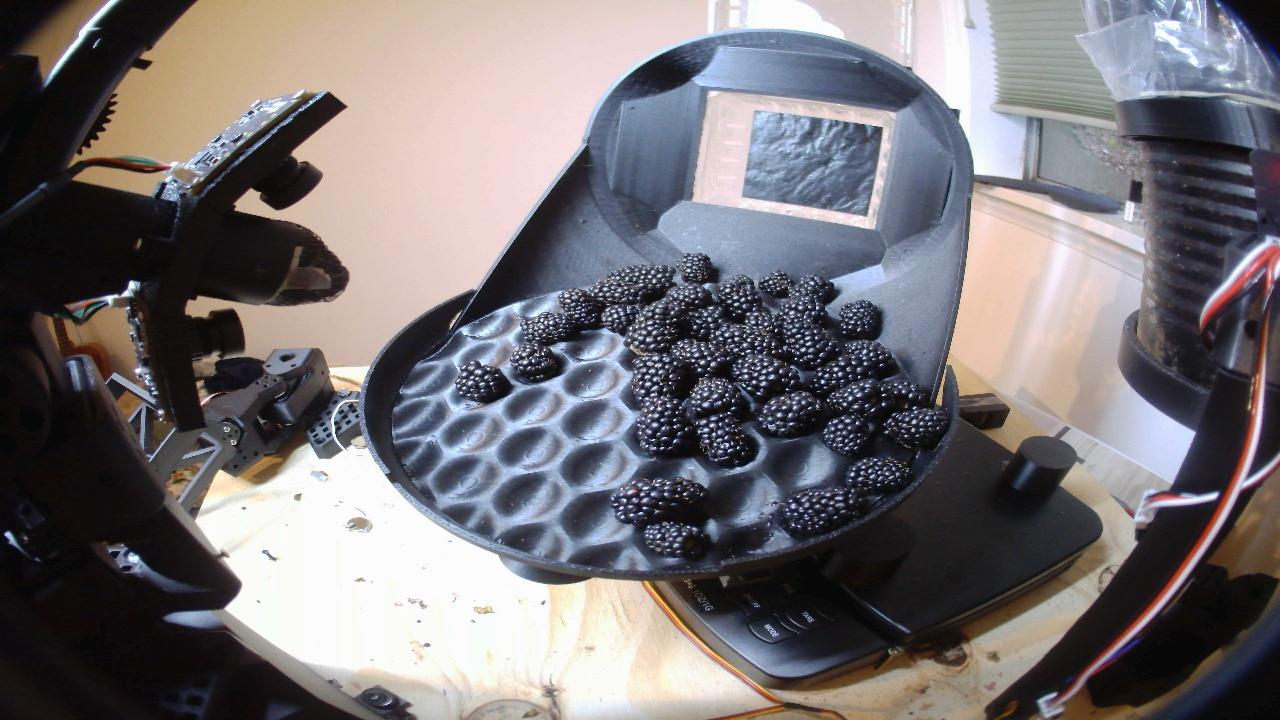berry: (610, 477, 706, 527), (777, 488, 863, 535), (634, 397, 695, 457), (732, 354, 800, 402), (781, 317, 839, 370), (694, 414, 751, 467), (756, 392, 821, 438), (807, 355, 876, 398), (624, 302, 682, 353), (630, 353, 690, 400), (827, 380, 889, 424), (687, 377, 747, 422), (883, 407, 947, 449), (642, 521, 708, 559), (844, 457, 909, 495), (672, 339, 732, 380), (711, 324, 783, 358), (455, 361, 509, 403), (821, 416, 871, 457), (843, 340, 895, 377), (509, 343, 559, 381), (558, 288, 604, 329), (520, 312, 574, 345), (606, 265, 674, 290), (679, 304, 726, 339), (837, 300, 879, 339), (587, 281, 658, 304), (718, 285, 762, 320), (880, 381, 931, 408), (779, 295, 825, 324), (600, 304, 643, 335), (791, 275, 835, 303), (743, 311, 782, 341), (664, 285, 711, 309), (676, 253, 712, 282), (757, 270, 793, 298), (717, 274, 752, 292)
